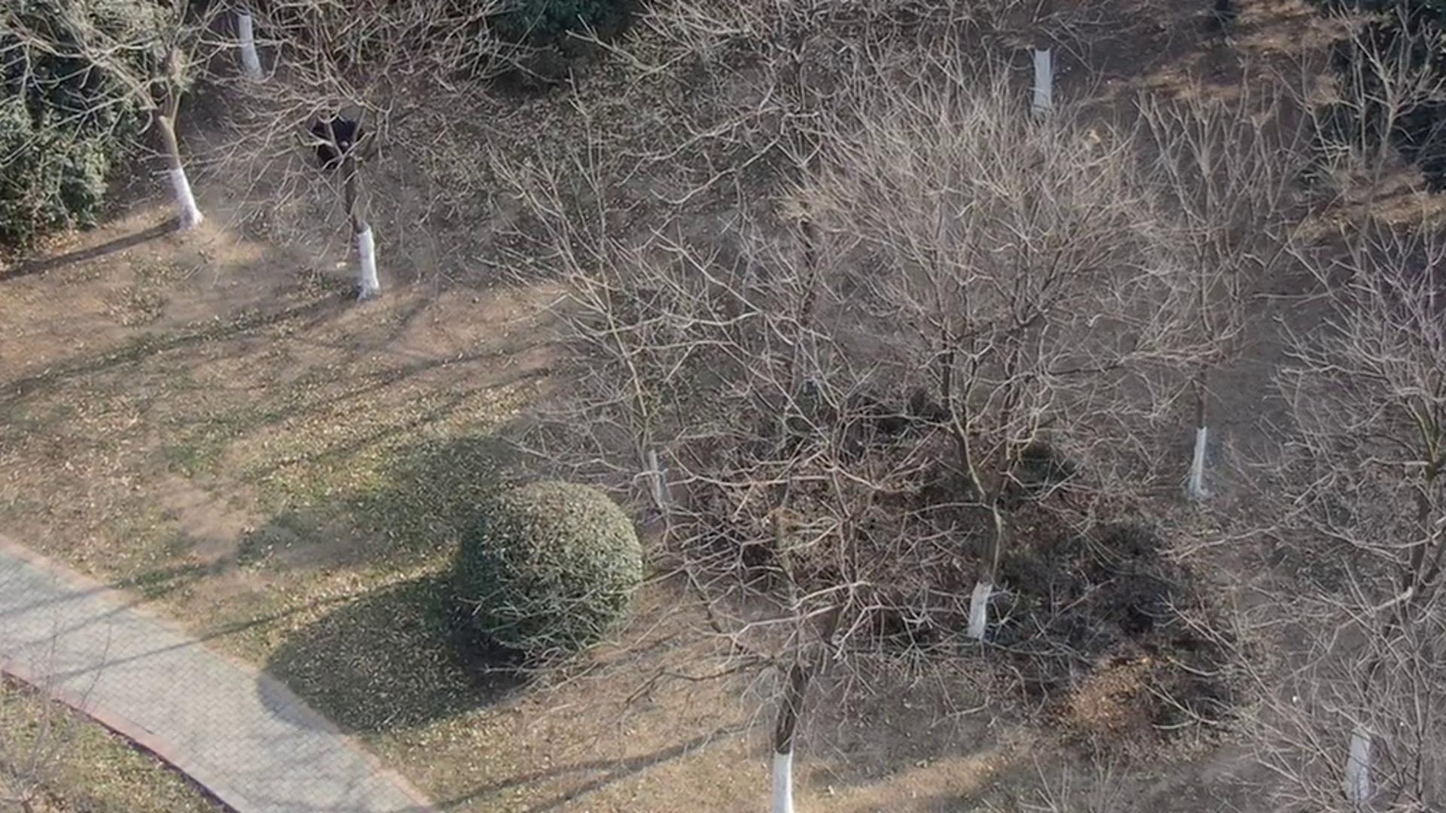human: (300, 84, 355, 151)
